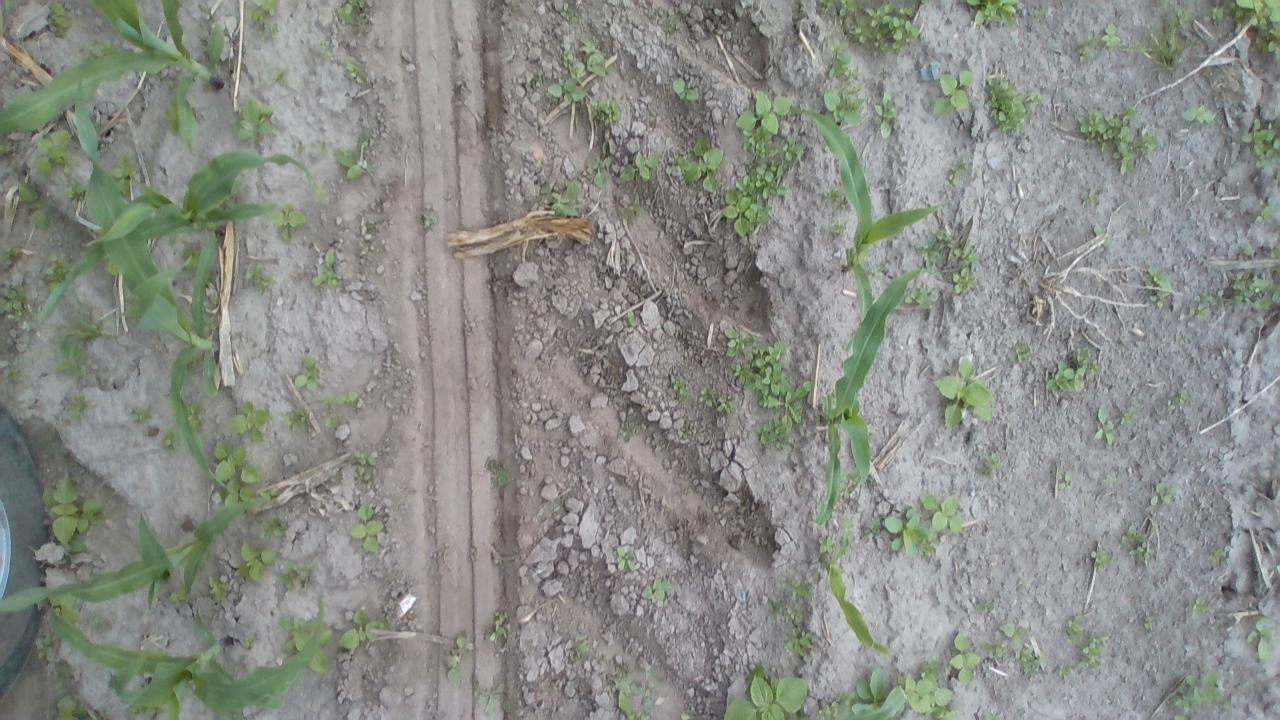Maize: (74, 74, 232, 492), (35, 154, 317, 327), (1, 1, 229, 152), (47, 608, 340, 718), (801, 108, 946, 322), (4, 507, 252, 620), (816, 266, 919, 524), (828, 516, 891, 658), (854, 685, 909, 720)
Weeds: (721, 325, 813, 449), (1124, 0, 1200, 76), (1080, 102, 1158, 175), (724, 662, 809, 720), (818, 0, 918, 49), (44, 470, 104, 545), (936, 357, 994, 427), (53, 314, 110, 374), (985, 75, 1040, 132), (611, 661, 663, 720), (1172, 668, 1234, 714), (1050, 350, 1106, 400), (284, 616, 333, 673), (676, 134, 724, 192), (735, 89, 792, 135), (898, 674, 956, 719), (1233, 0, 1280, 55), (880, 508, 931, 558), (724, 190, 771, 238), (934, 65, 974, 118), (339, 608, 386, 650), (225, 400, 273, 441), (918, 493, 968, 532), (348, 502, 386, 553), (212, 442, 258, 483), (742, 156, 788, 197), (36, 128, 74, 174), (236, 99, 278, 140), (1241, 118, 1280, 162), (822, 81, 863, 122), (963, 0, 1019, 30), (472, 678, 514, 718), (235, 543, 279, 581), (950, 630, 982, 682), (934, 223, 978, 260), (1232, 272, 1272, 312), (16, 181, 50, 227), (338, 132, 371, 179), (578, 33, 614, 75), (544, 178, 584, 214), (1250, 598, 1274, 657), (275, 202, 311, 240), (871, 92, 898, 140), (1144, 266, 1174, 309), (617, 154, 660, 184), (782, 627, 818, 661), (853, 672, 885, 710), (547, 78, 589, 105), (0, 280, 34, 312), (698, 388, 738, 415), (313, 247, 339, 288), (826, 48, 858, 81), (772, 597, 806, 628), (1080, 631, 1106, 671), (109, 151, 134, 192), (745, 126, 777, 158), (442, 636, 464, 680), (45, 1, 73, 35), (295, 359, 323, 392), (1018, 644, 1042, 682), (918, 236, 944, 270), (52, 594, 83, 622), (1096, 405, 1118, 444), (54, 692, 84, 720), (259, 516, 290, 542), (42, 250, 70, 278), (784, 574, 818, 597), (614, 546, 640, 576), (591, 99, 621, 125), (838, 514, 860, 549), (1002, 621, 1026, 653), (592, 142, 609, 187), (251, 264, 276, 294), (280, 563, 300, 599), (674, 78, 705, 101), (1184, 103, 1216, 125), (1090, 540, 1112, 572), (641, 578, 673, 600), (950, 266, 976, 293), (1190, 293, 1217, 318), (204, 574, 228, 602), (284, 410, 308, 438), (222, 483, 254, 503), (620, 415, 644, 441), (782, 136, 806, 162), (488, 460, 510, 488), (949, 156, 970, 185), (488, 610, 509, 639), (71, 397, 95, 422), (620, 197, 642, 224), (816, 699, 844, 720), (1256, 198, 1280, 222), (248, 0, 280, 18), (310, 180, 336, 202), (1078, 34, 1098, 62), (186, 402, 206, 430), (671, 373, 690, 402), (353, 454, 378, 476), (1128, 545, 1154, 566), (1066, 614, 1084, 644), (1006, 342, 1030, 364), (85, 40, 118, 56), (130, 405, 157, 424), (338, 0, 366, 18), (905, 285, 930, 305), (1149, 480, 1168, 506), (1102, 20, 1121, 46), (32, 633, 54, 655), (1120, 524, 1146, 542), (976, 454, 1002, 472), (979, 640, 1008, 656), (919, 656, 940, 678), (334, 390, 362, 406), (573, 639, 594, 660), (1167, 394, 1189, 412), (562, 2, 580, 24), (323, 397, 335, 430), (162, 430, 180, 451), (818, 536, 836, 557), (260, 24, 282, 40), (1120, 406, 1138, 425), (1082, 189, 1102, 206), (558, 48, 576, 66), (316, 140, 332, 160), (1192, 598, 1207, 619), (1207, 545, 1224, 563), (1210, 4, 1226, 22), (68, 183, 84, 201), (170, 591, 192, 604), (242, 630, 256, 650), (1057, 472, 1073, 488), (832, 224, 848, 240), (423, 214, 440, 229), (1142, 615, 1156, 632), (1058, 664, 1072, 681), (1092, 224, 1108, 238), (842, 692, 858, 706), (978, 600, 996, 612), (269, 67, 285, 80), (628, 309, 640, 326), (347, 63, 359, 78), (10, 365, 20, 381), (824, 188, 838, 199), (1269, 248, 1280, 261), (1240, 246, 1251, 257), (0, 142, 8, 154)
